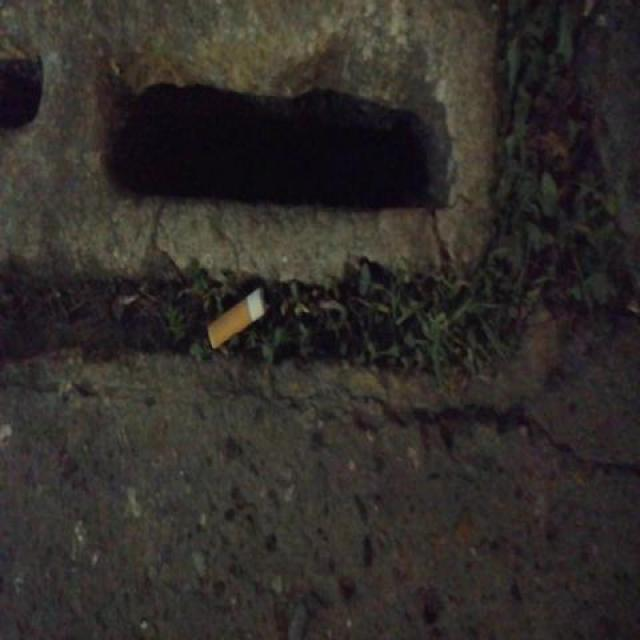non-organic waste: (203, 282, 274, 355)
